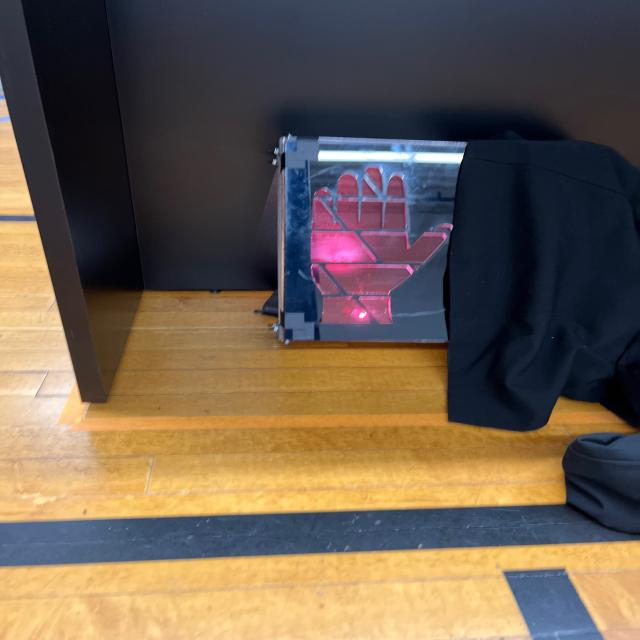stop: (280, 146, 468, 343)
